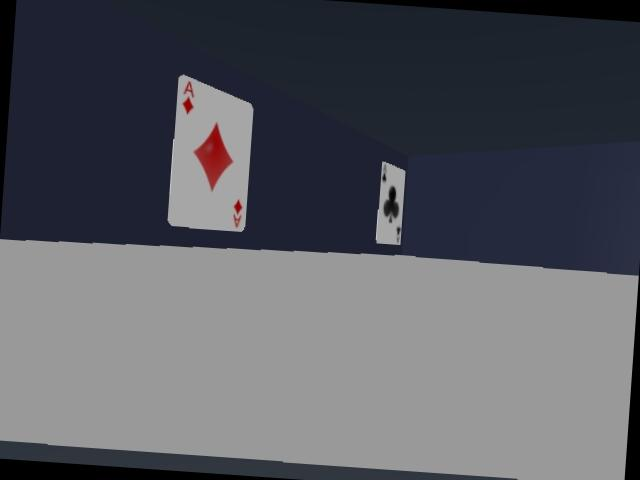club: (376, 162, 404, 244)
diamond: (168, 75, 253, 231)
